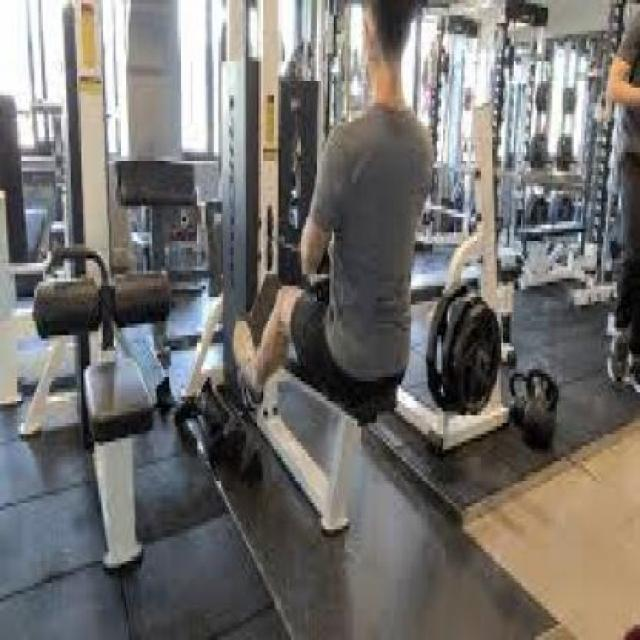Seated Cable Rows: (182, 2, 442, 550)
